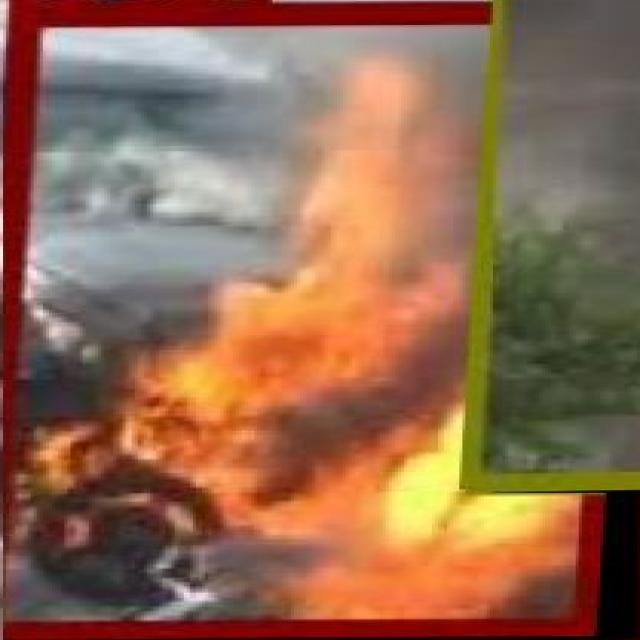fire: (3, 1, 640, 640)
